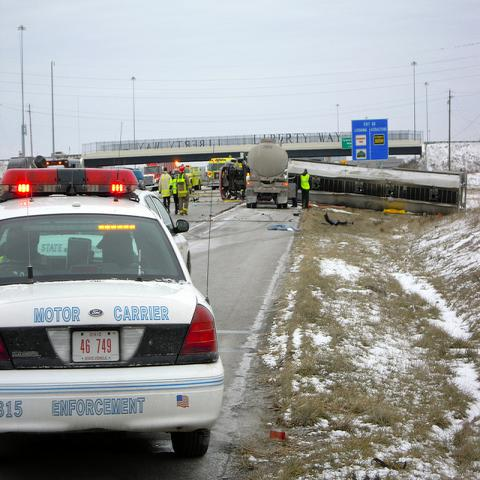car: (0, 166, 225, 462), (133, 191, 191, 270), (132, 169, 146, 190)
truck: (246, 142, 290, 209), (219, 158, 252, 202), (205, 157, 237, 190), (142, 163, 177, 185), (187, 165, 204, 190)
